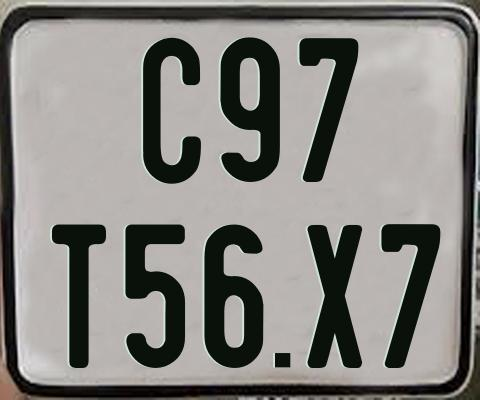5: (124, 222, 186, 368)
6: (202, 224, 262, 371)
7: (378, 221, 444, 368), (299, 38, 359, 187)
9: (220, 35, 283, 184)
C: (143, 36, 206, 182)
T: (51, 224, 107, 372)
X: (305, 223, 364, 370)
